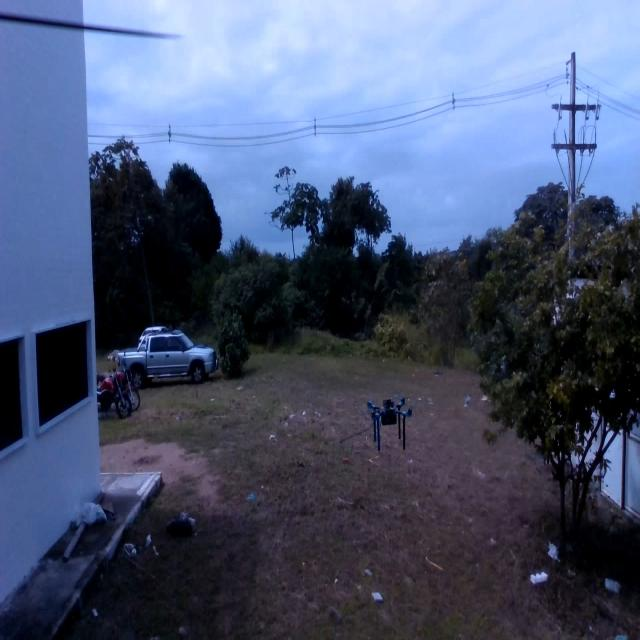-uav-: (352, 385, 423, 462)
